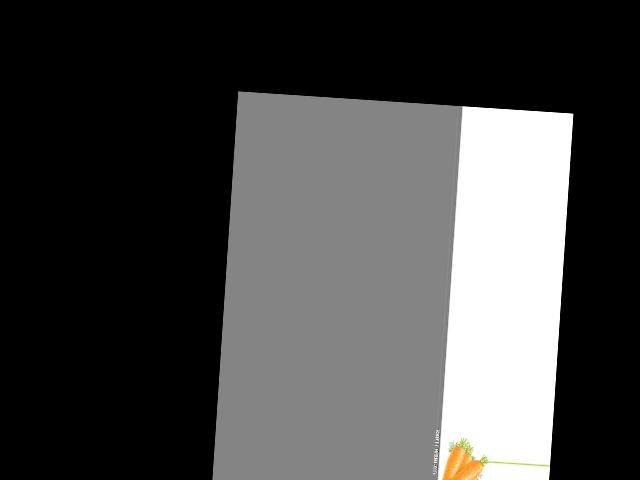carrot: (429, 436, 465, 480)
